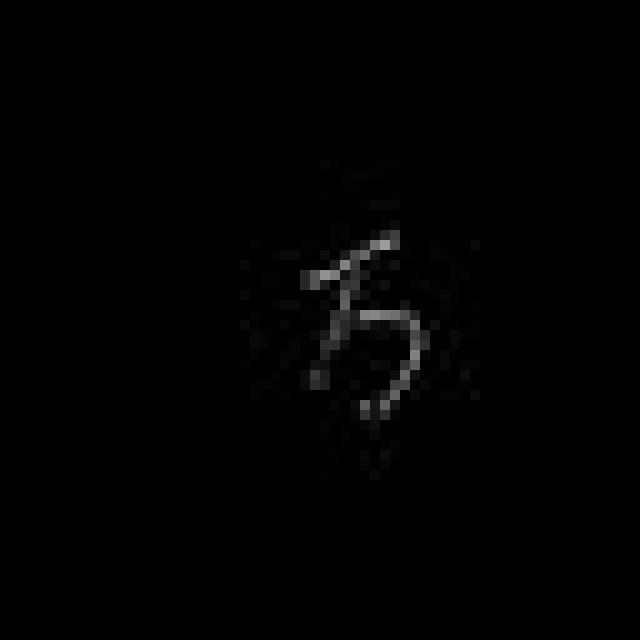10000 -a ten thousand-: (288, 221, 438, 430)
